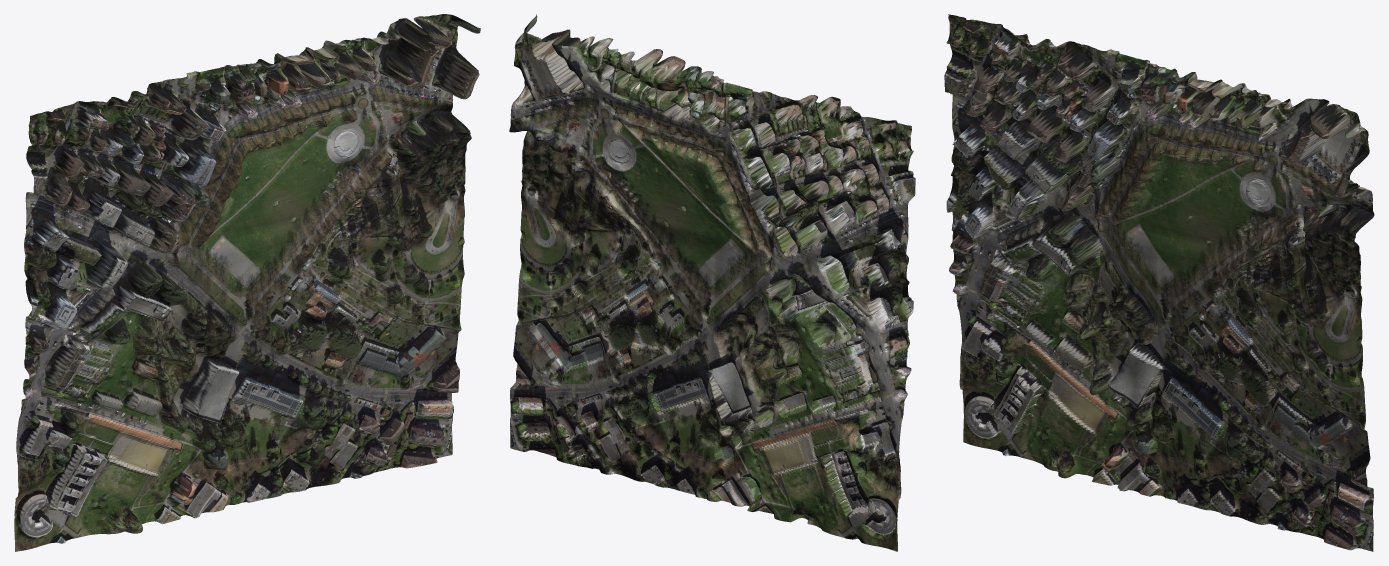
3 views of the same model, side by side, from view 1: azimuth 30°, elevation 25°; view 2: azimuth 150°, elevation 25°; view 3: azimuth 330°, elevation 25° (orthographic). The views are drawn at different scales.
Visible parts, largest first — view 1: ayama_surface; view 2: ayama_surface; view 3: ayama_surface.
Boxes of the visible parts, x1,y1,x2,y2 form: ayama_surface: [14, 14, 480, 551]; ayama_surface: [509, 14, 915, 551]; ayama_surface: [944, 14, 1374, 551].
Size of the model in its own units: 510 by 510 by 81.04.
Materials: 1 (1 with a texture image).
